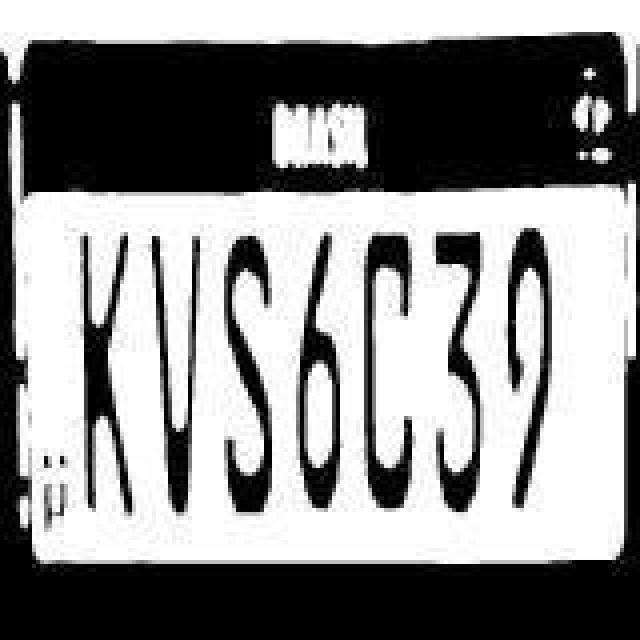3: (430, 218, 498, 534)
6: (284, 214, 356, 522)
9: (500, 220, 572, 532)
C: (360, 212, 424, 524)
K: (62, 206, 138, 514)
S: (208, 212, 280, 516)
V: (146, 210, 206, 526)
